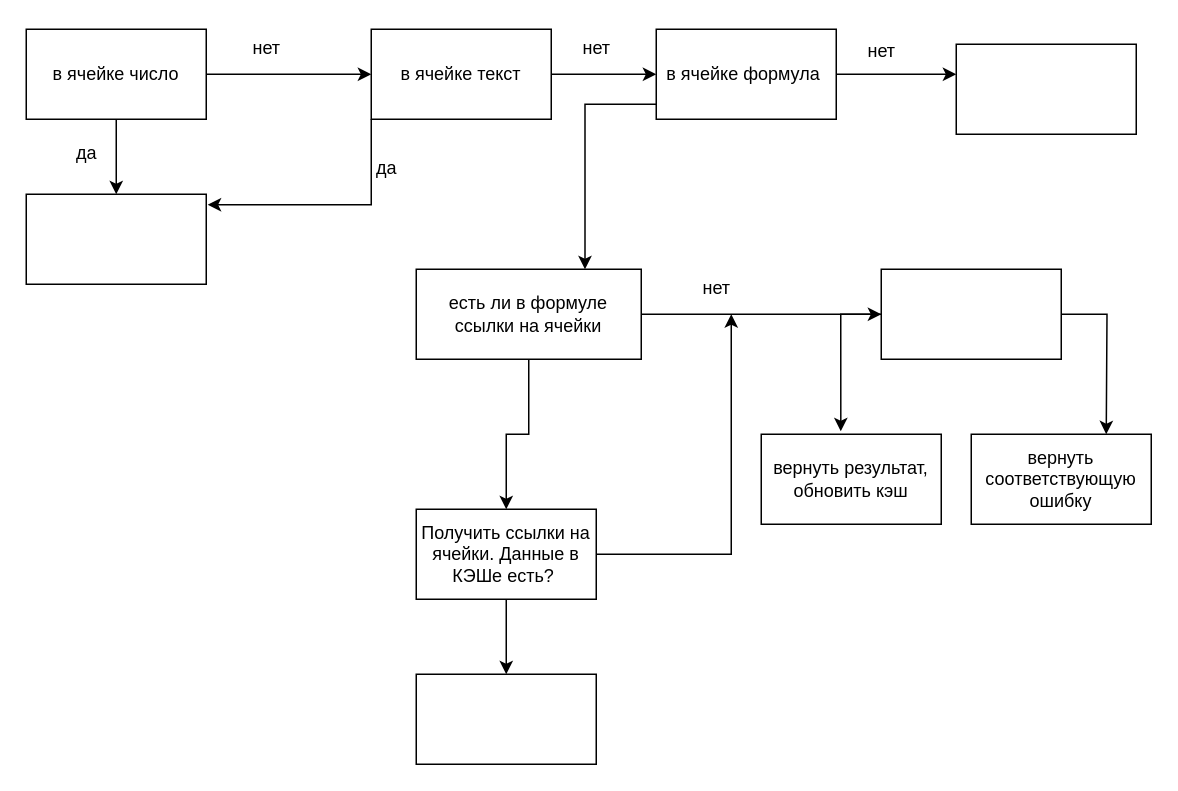
This 1178x791 diagram has some shape labels left out. Each missing label, with the centre of its shape:
вернуть содержимое КЭШа: pixel 505 718
вернуть содержимое ячейки: pixel 115 238
ошибка вычисления: pixel 1045 88
Рассчитать операнды. Формула валидна?: pixel 970 313
